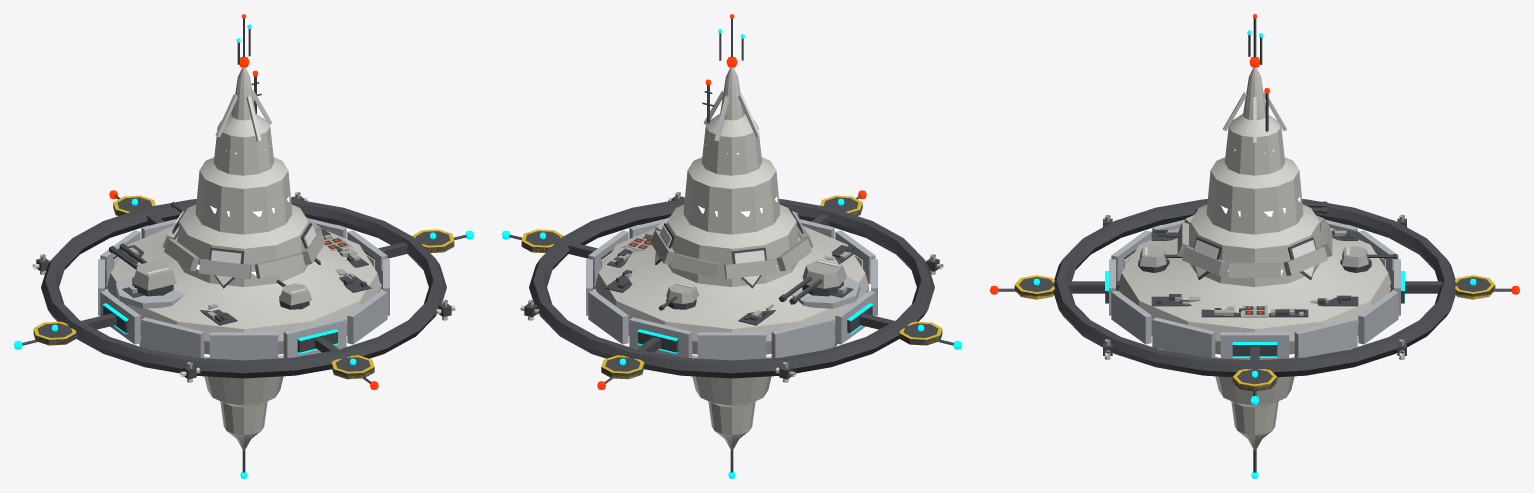
File: headquarters.glb
The picture shows the model from 3 angles, left to right: view 1: azimuth 30°, elevation 25°; view 2: azimuth 150°, elevation 25°; view 3: azimuth 270°, elevation 25°; orthographic projection.
Parts seen in each view (by area): view 1: headquarters, Turret_4, Turret_1; view 2: headquarters, Turret_4, Turret_0; view 3: headquarters, Turret_0, Turret_1.
Boxes of the visible parts, box(x1,y1,x2,y2) form: headquarters: box(14, 14, 473, 478); Turret_4: box(109, 243, 176, 296); Turret_1: box(276, 279, 311, 309); headquarters: box(502, 14, 961, 478); Turret_4: box(778, 259, 846, 304); Turret_0: box(658, 282, 699, 310); headquarters: box(990, 14, 1519, 478); Turret_0: box(1340, 246, 1397, 272); Turret_1: box(1138, 246, 1182, 272).
Size of the model in its own units: 2 by 1.93 by 2.
